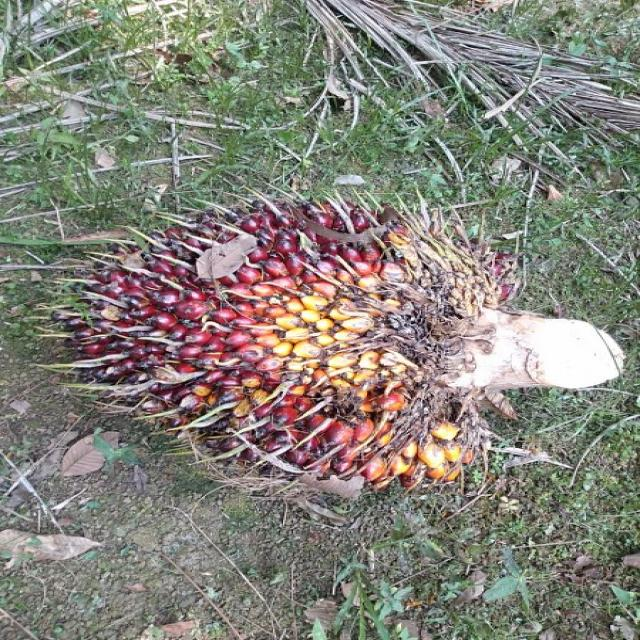fraksi 1: (65, 198, 496, 485)
